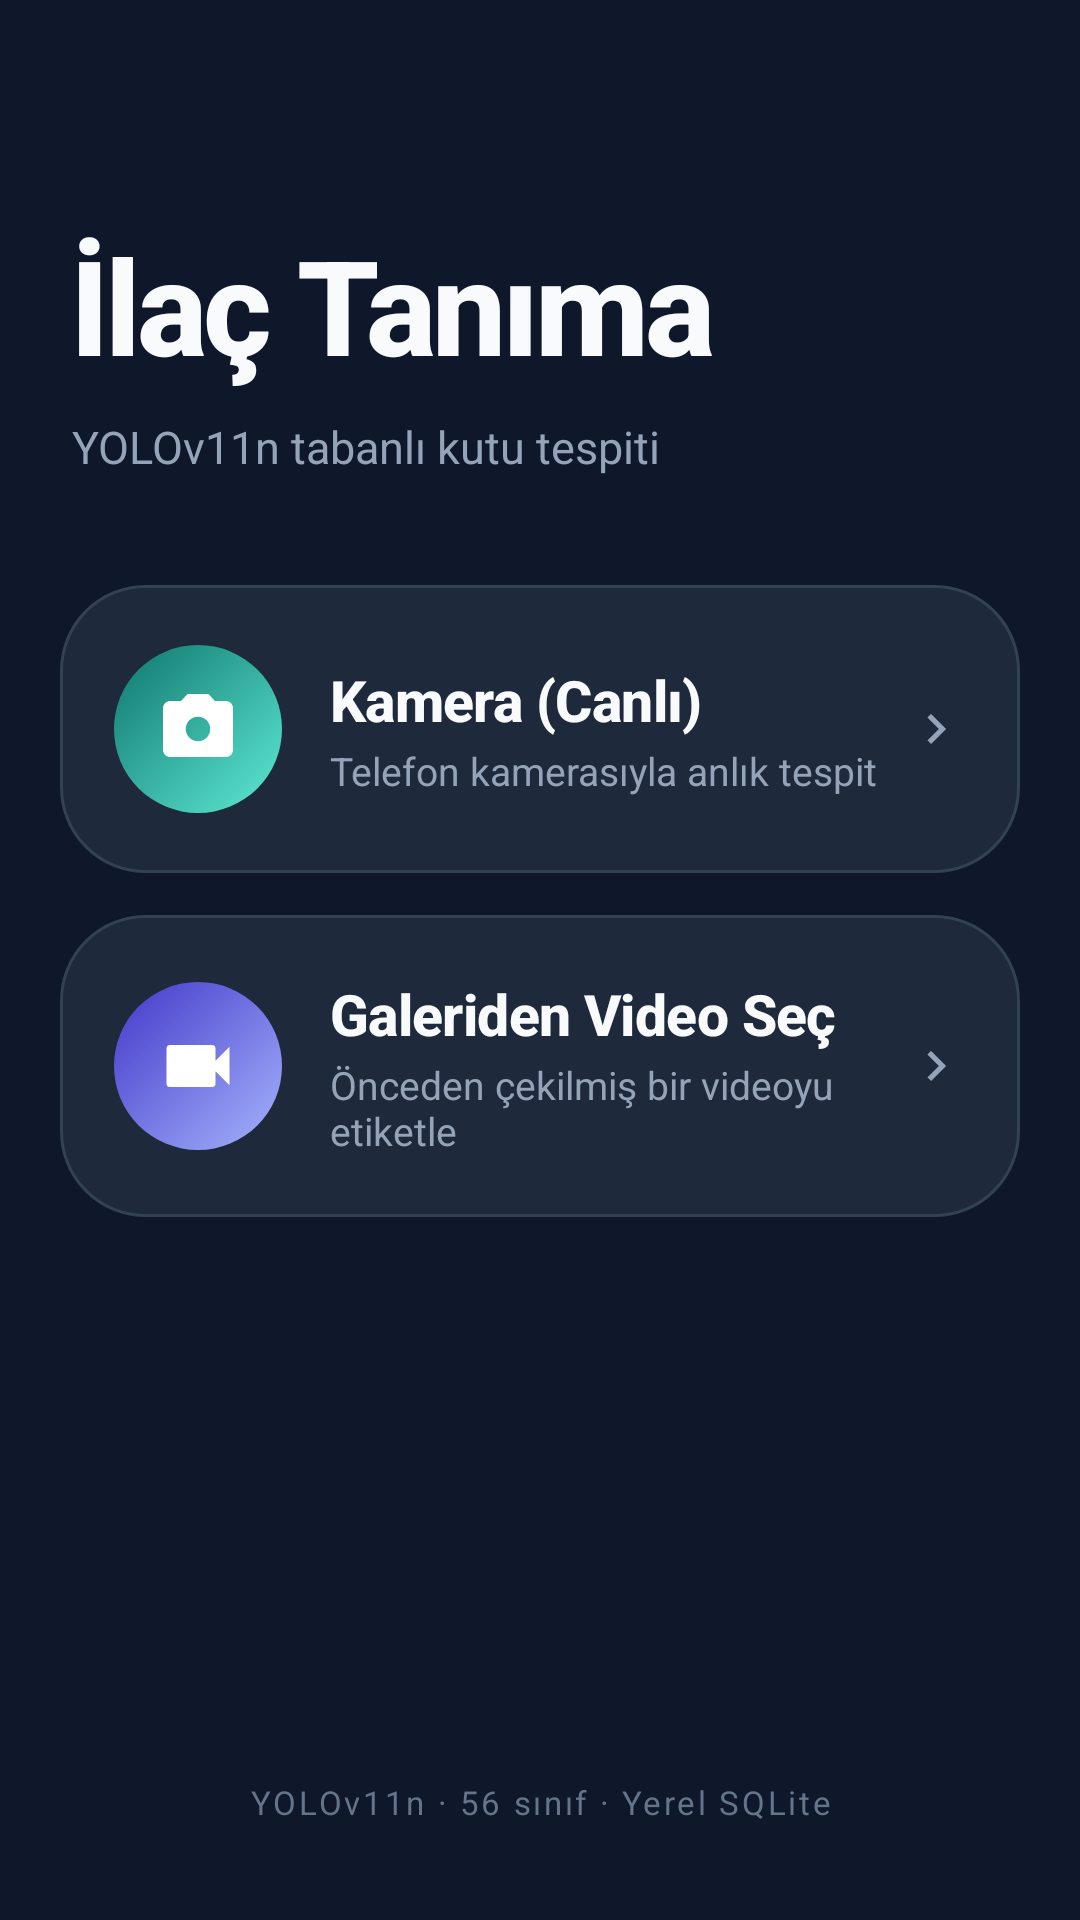

Icons on this 1080w x 1920h Android screen, each with its box as (x1, y1, x2, y2):
arrow right: (927, 714, 946, 744), (927, 1051, 946, 1081)
